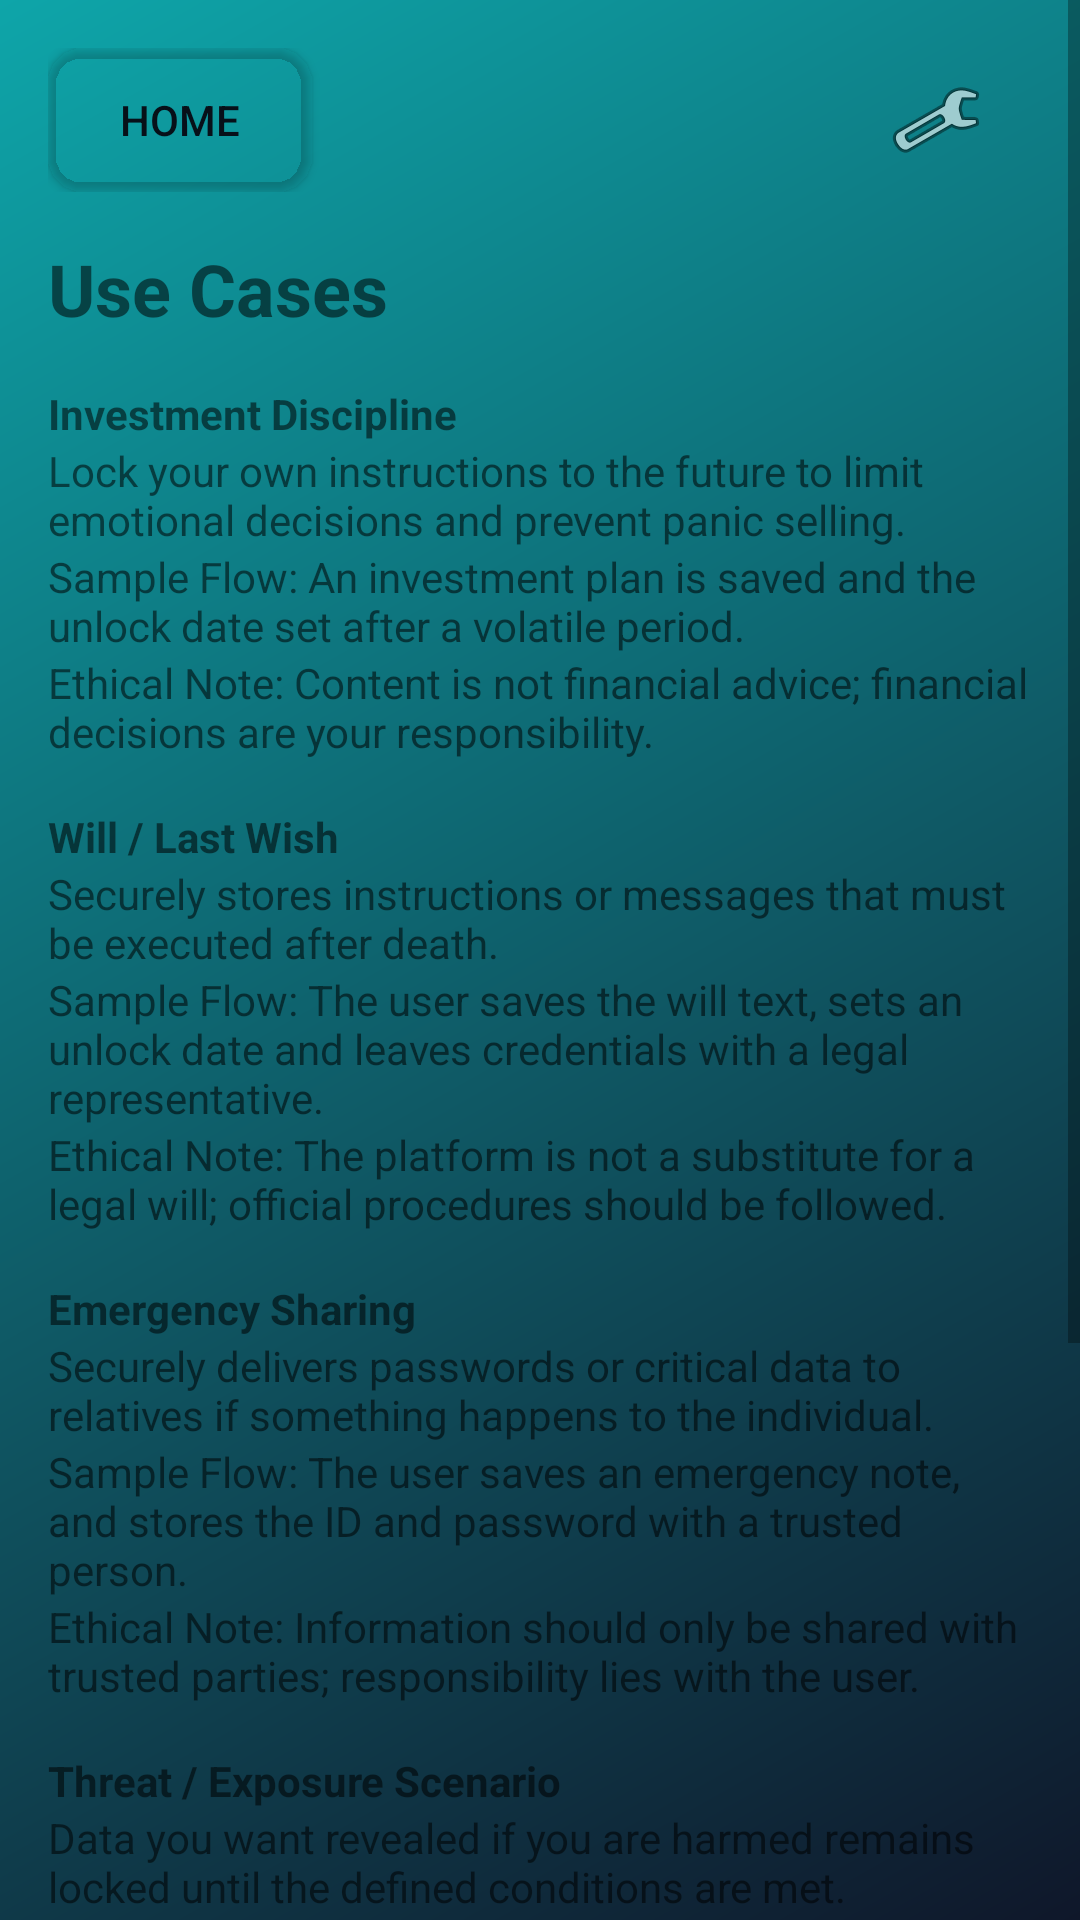

Where to tap for icons on this 1080x1920 app screen, as (x=x, y=y):
Settings: (x=936, y=120)
